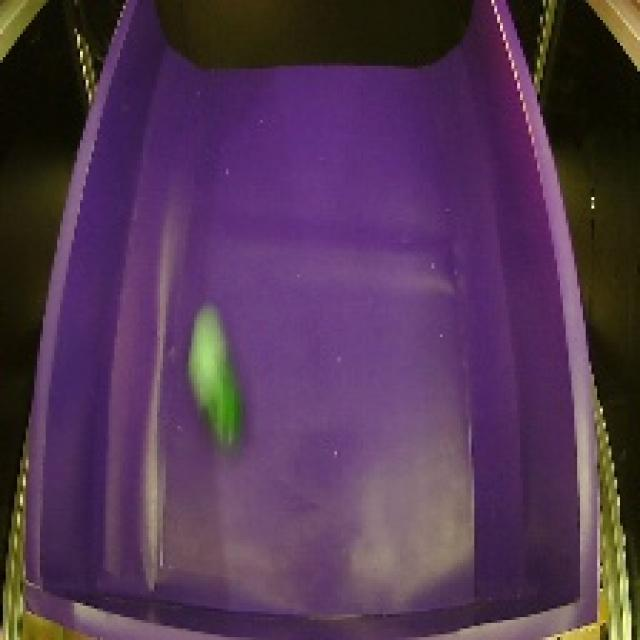small: (182, 302, 255, 460)
